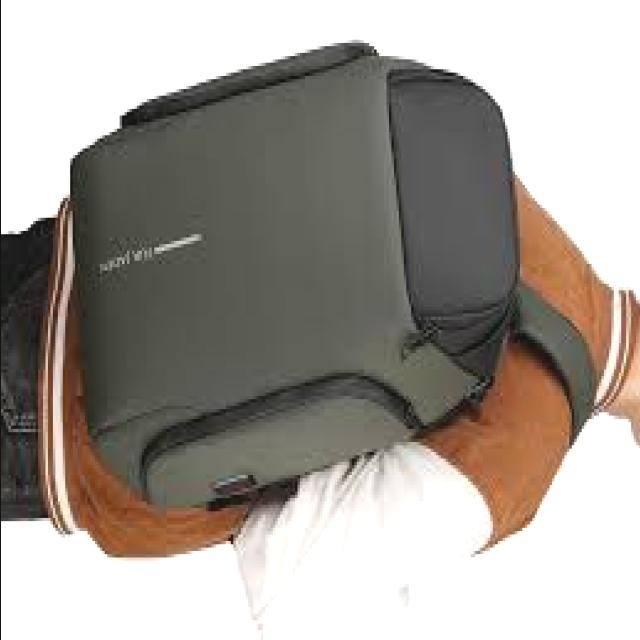backpack: (43, 38, 599, 559)
